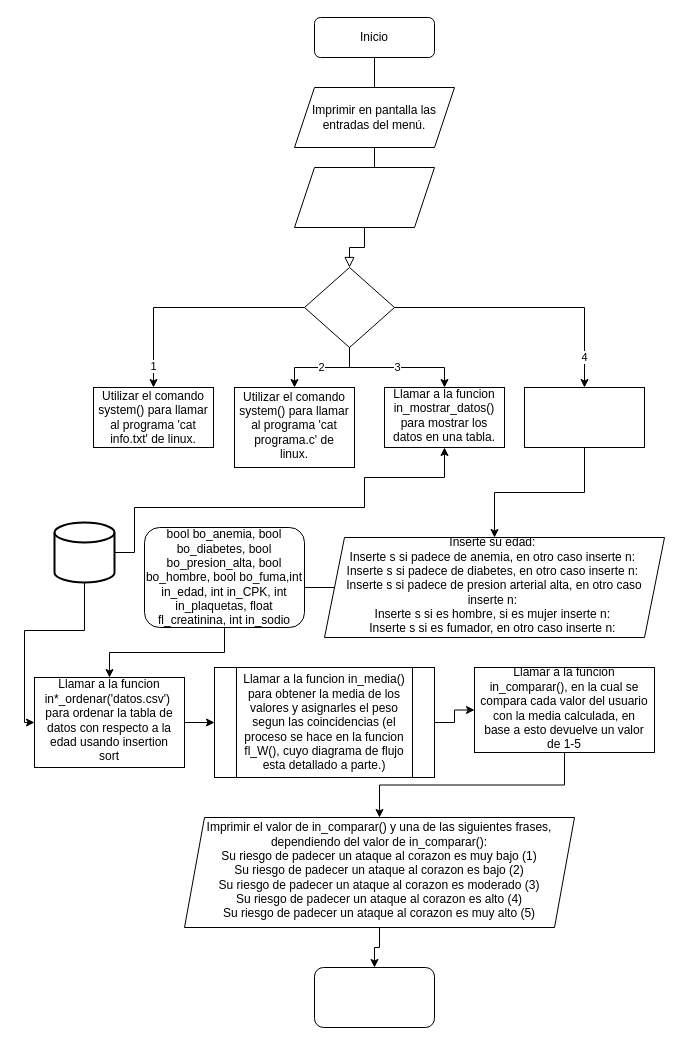
Image size: 682x1045. Some labels were removed from this diagram. Each missing label, with the centre of its shape:
datos.csv: [84,552]
Entrada de in_opcion: [364,197]
Fin.: [374,997]
Llamar a la funcion vo_start() para comenzar el proceso.: [584,417]
switch in_opcion: [349,307]
